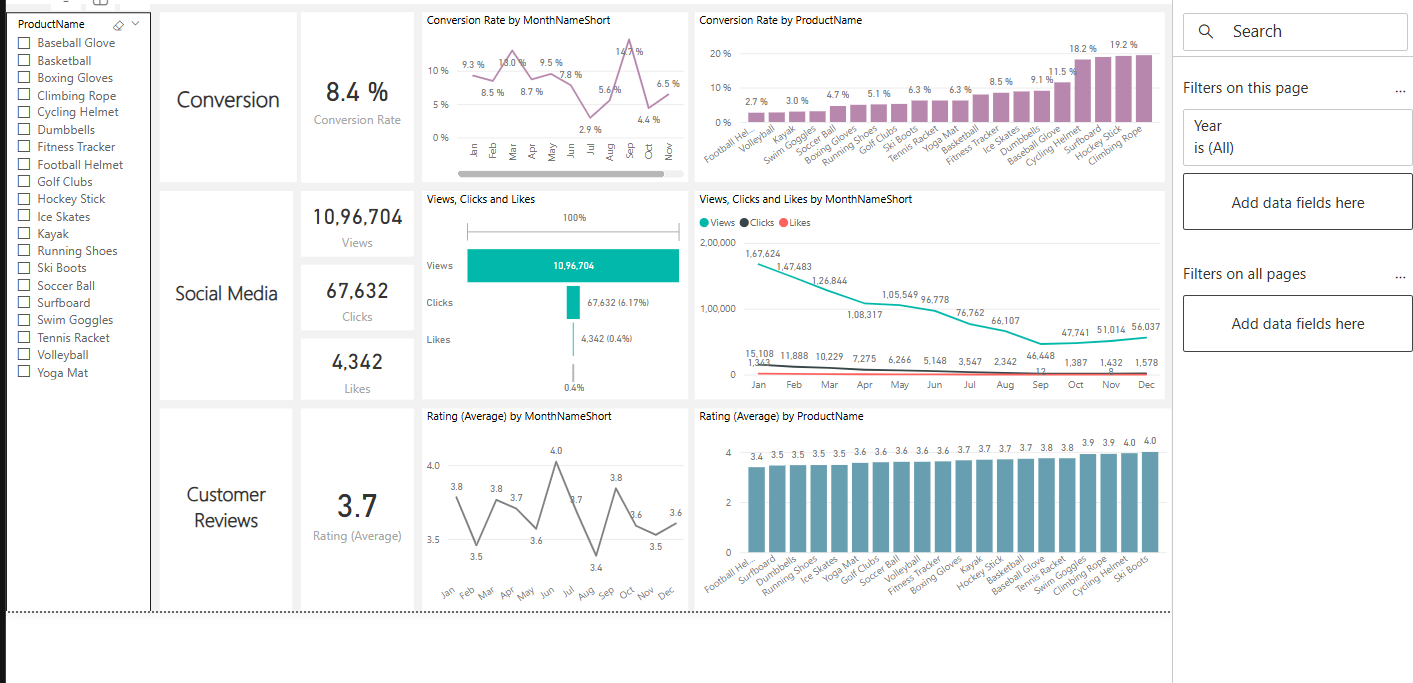

This screenshot's page, from the dashboard's own definition file:
{"tool":"powerbi","page":{"name":"Overview","canvas":[1280,720],"ordinal":0},"visuals":[{"type":"textbox","box":[0,0,1280,52.6],"z":0},{"type":"slicer","fields":{"Values":["dim_products.ProductName"]},"box":[0,61.6,159.5,658.5],"z":1000},{"type":"card","fields":{"Values":["_Calculations.Conversion Rate"]},"box":[324.1,61.9,123.9,186.8],"z":2000},{"type":"card","fields":{"Values":["_Calculations.Rating (Average)"]},"box":[324.1,496.5,123.9,224],"z":3000},{"type":"lineChart","fields":{"Y":["_Calculations.Conversion Rate"],"Category":["Calendar.MonthNameShort"]},"box":[457.1,61.9,292.3,186.7],"z":4000},{"type":"columnChart","fields":{"Category":["dim_products.ProductName"],"Y":["_Calculations.Conversion Rate"]},"box":[756.7,61.9,516.3,186.7],"z":5000},{"type":"slicer","fields":{"Values":["Calendar.Year"]},"box":[189.4,4.6,249.5,43.7],"z":6000},{"type":"slicer","fields":{"Values":["Calendar.MonthNameShort"]},"box":[448,4.6,832.3,43.7],"z":7000},{"type":"lineChart","fields":{"Y":["_Calculations.Views","_Calculations.Clicks","_Calculations.Likes"],"Category":["Calendar.MonthNameShort"]},"box":[756.6,258.1,516.1,229.2],"z":8000},{"type":"lineChart","fields":{"Category":["Calendar.MonthNameShort"],"Y":["_Calculations.Rating (Average)"]},"box":[457.1,496.3,292.3,224],"z":9000},{"type":"columnChart","fields":{"Category":["dim_products.ProductName"],"Y":["_Calculations.Rating (Average)"]},"box":[756.6,496.5,523.4,224],"z":10000},{"type":"funnel","fields":{"Y":["_Calculations.Views","_Calculations.Clicks","_Calculations.Likes"]},"box":[457.3,258.1,292.1,229.2],"z":11000},{"type":"card","fields":{"Values":["_Calculations.Views"]},"box":[324.2,257.7,123.8,71.9],"z":12000},{"type":"textbox","box":[168.5,61.9,150.3,186.7],"z":13000},{"type":"textbox","box":[168.5,257.7,146.6,229.5],"z":14000},{"type":"textbox","box":[168.5,496.3,145.7,224],"z":15000},{"type":"card","fields":{"Values":["_Calculations.Clicks"]},"box":[324.2,338.8,123.8,71.9],"z":16000},{"type":"card","fields":{"Values":["_Calculations.Likes"]},"box":[324.2,419.8,123.8,67.4],"z":17000}]}

Visuals, with their boxes on the page's 1280x720 design canvas (x1, y1, x2, y2). These are canvas units, not pixel positions in the 1413x683 screenshot, which may show the page scaled, cropped or inside an application window:
textbox: bbox=(0, 0, 1280, 53)
slicer - dim_products.ProductName: bbox=(0, 62, 160, 720)
card - _Calculations.Conversion Rate: bbox=(324, 62, 448, 249)
card - _Calculations.Rating (Average): bbox=(324, 496, 448, 720)
lineChart - _Calculations.Conversion Rate x Calendar.MonthNameShort: bbox=(457, 62, 749, 249)
columnChart - dim_products.ProductName x _Calculations.Conversion Rate: bbox=(757, 62, 1273, 249)
slicer - Calendar.Year: bbox=(189, 5, 439, 48)
slicer - Calendar.MonthNameShort: bbox=(448, 5, 1280, 48)
lineChart - _Calculations.Views x _Calculations.Clicks: bbox=(757, 258, 1273, 487)
lineChart - Calendar.MonthNameShort x _Calculations.Rating (Average): bbox=(457, 496, 749, 720)
columnChart - dim_products.ProductName x _Calculations.Rating (Average): bbox=(757, 496, 1280, 720)
funnel - _Calculations.Views x _Calculations.Clicks: bbox=(457, 258, 749, 487)
card - _Calculations.Views: bbox=(324, 258, 448, 330)
textbox: bbox=(168, 62, 319, 249)
textbox: bbox=(168, 258, 315, 487)
textbox: bbox=(168, 496, 314, 720)
card - _Calculations.Clicks: bbox=(324, 339, 448, 411)
card - _Calculations.Likes: bbox=(324, 420, 448, 487)
